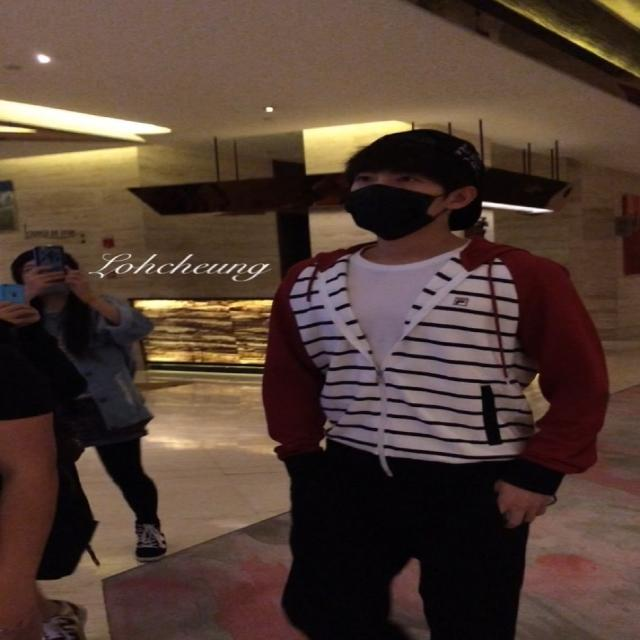mask: (347, 150, 443, 235)
